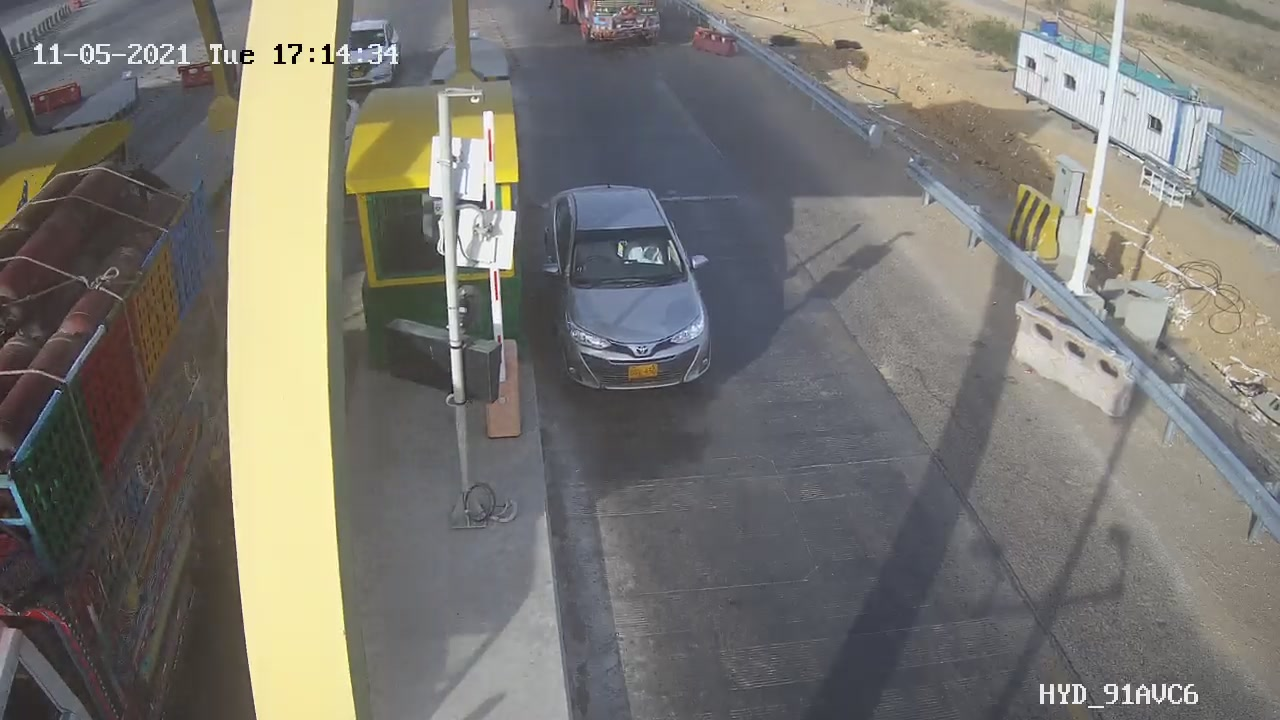F1: (524, 165, 743, 416)
